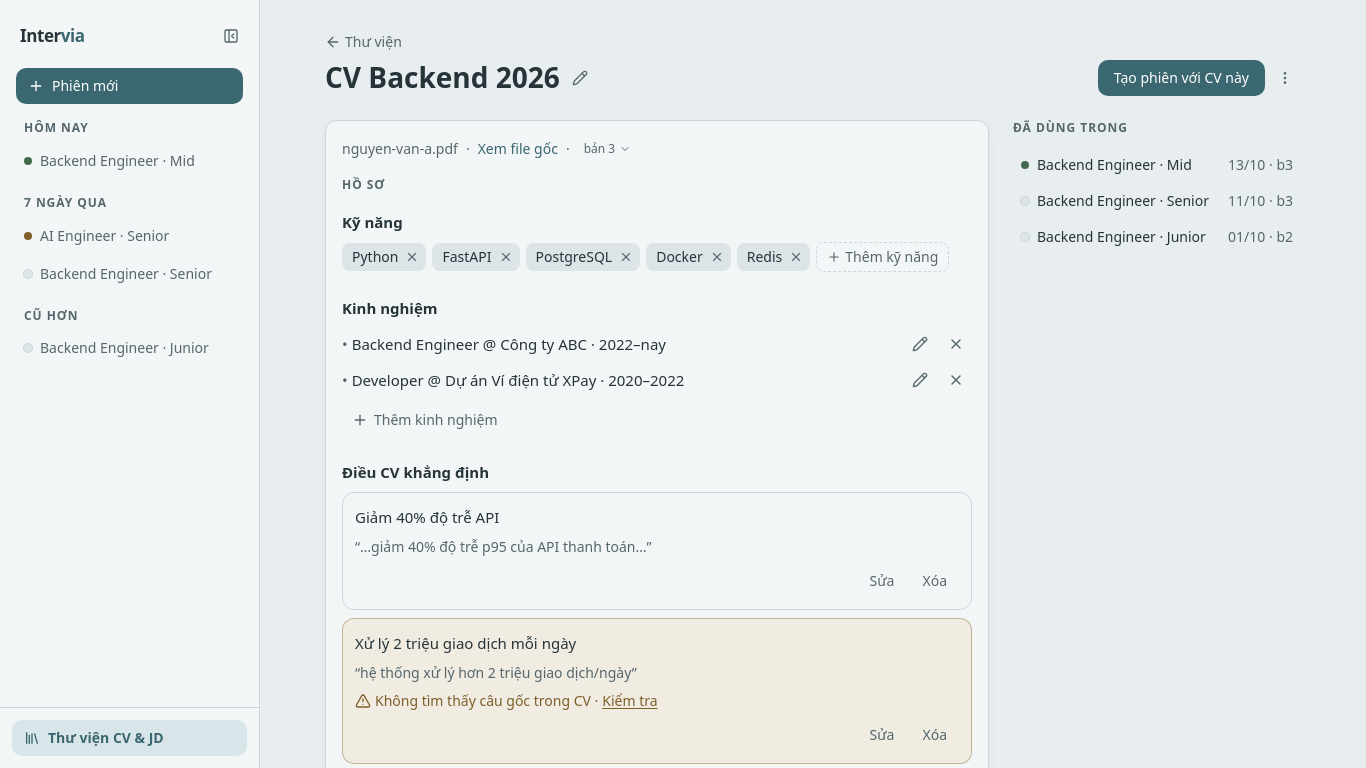
CvDetailPage › picks an old version from the history menu
Click the button with aria-label "xem lịch sử phiên bản" at (607, 149), box [578,137,637,161]
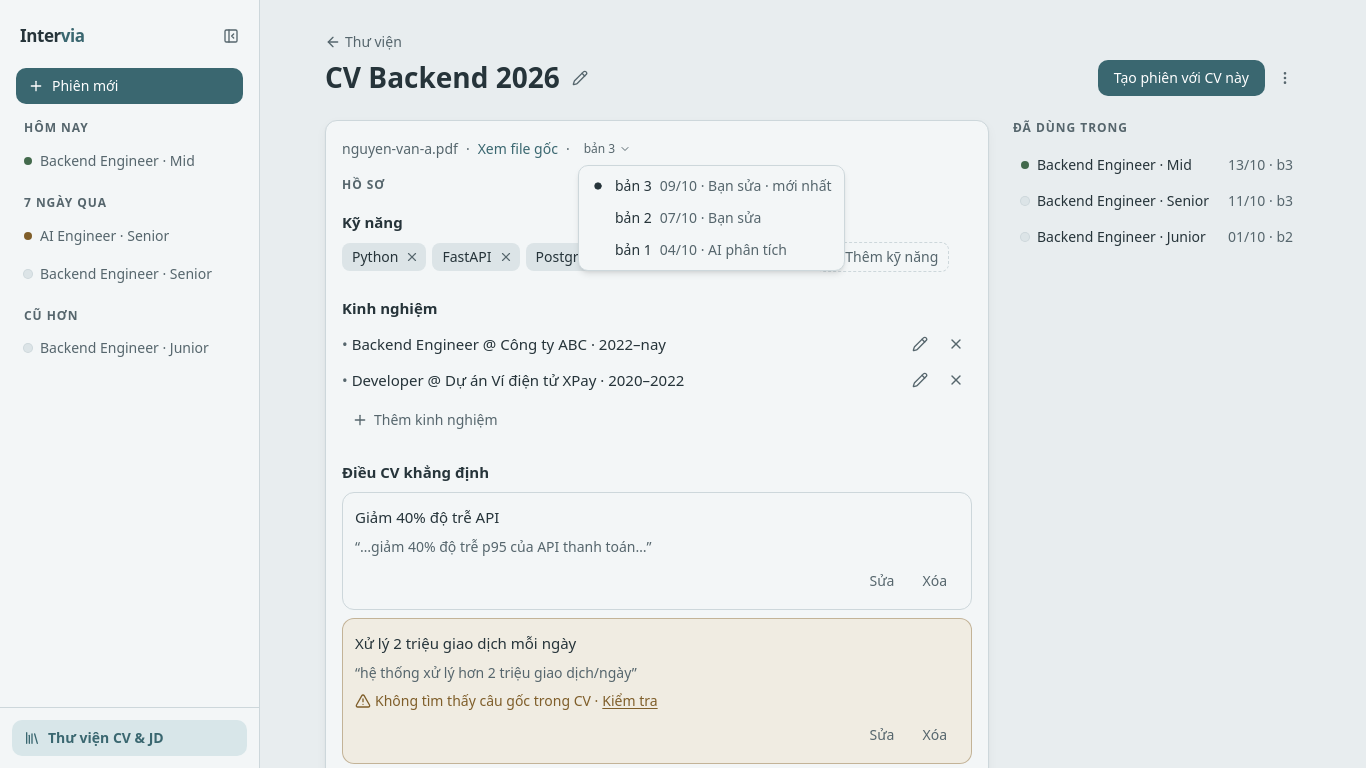
Click the menu item "bản 1 04/10 · AI phân tích" at (701, 250), box [615,240,787,259]
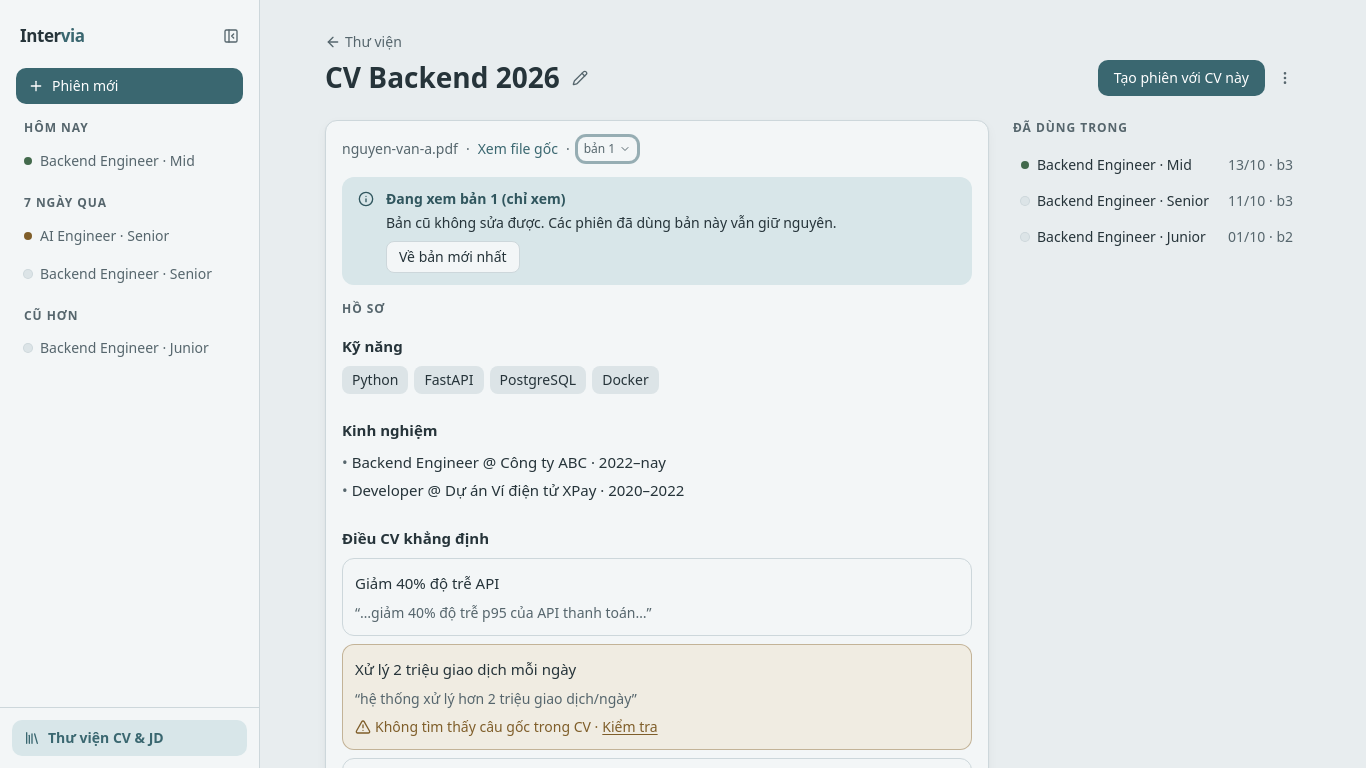
Expected: the text "Đang xem bản 1 (chỉ xem)" is shown, [386,189,565,208]
